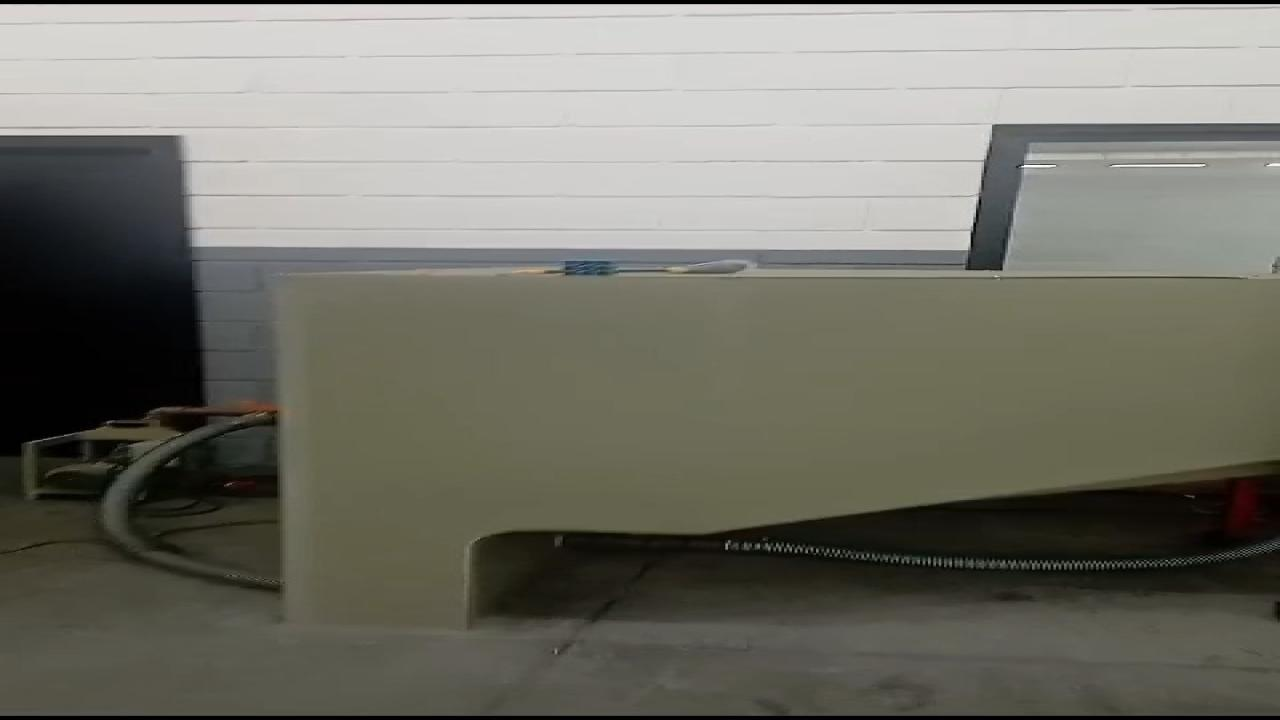Cube: (543, 256, 627, 279)
